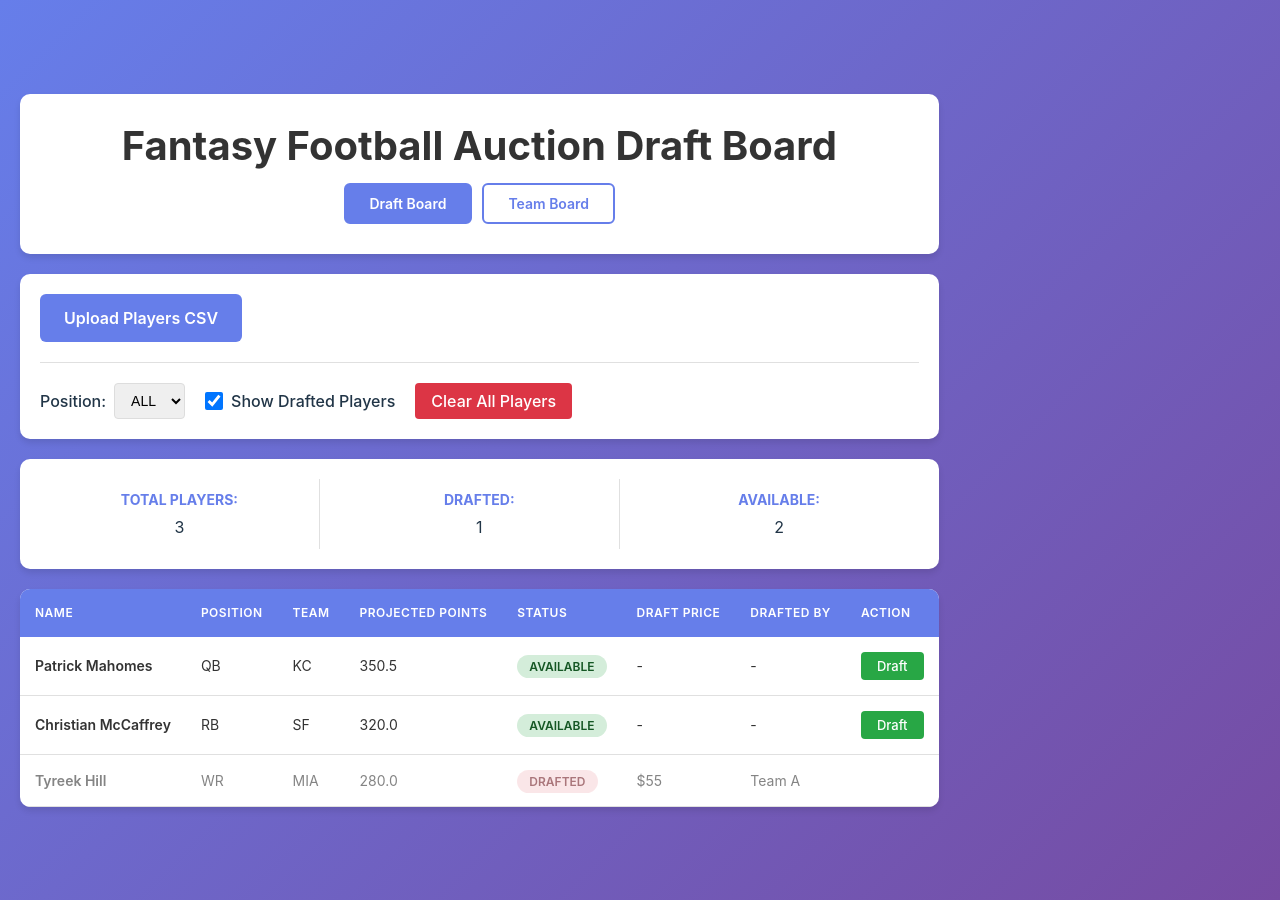
App › Show Drafted Filter › hides drafted players when checkbox is unchecked
Check: the text "Tyreek Hill" is shown, box [20,754,186,806]
Click the checkbox: (214, 400) [205,392,223,410]
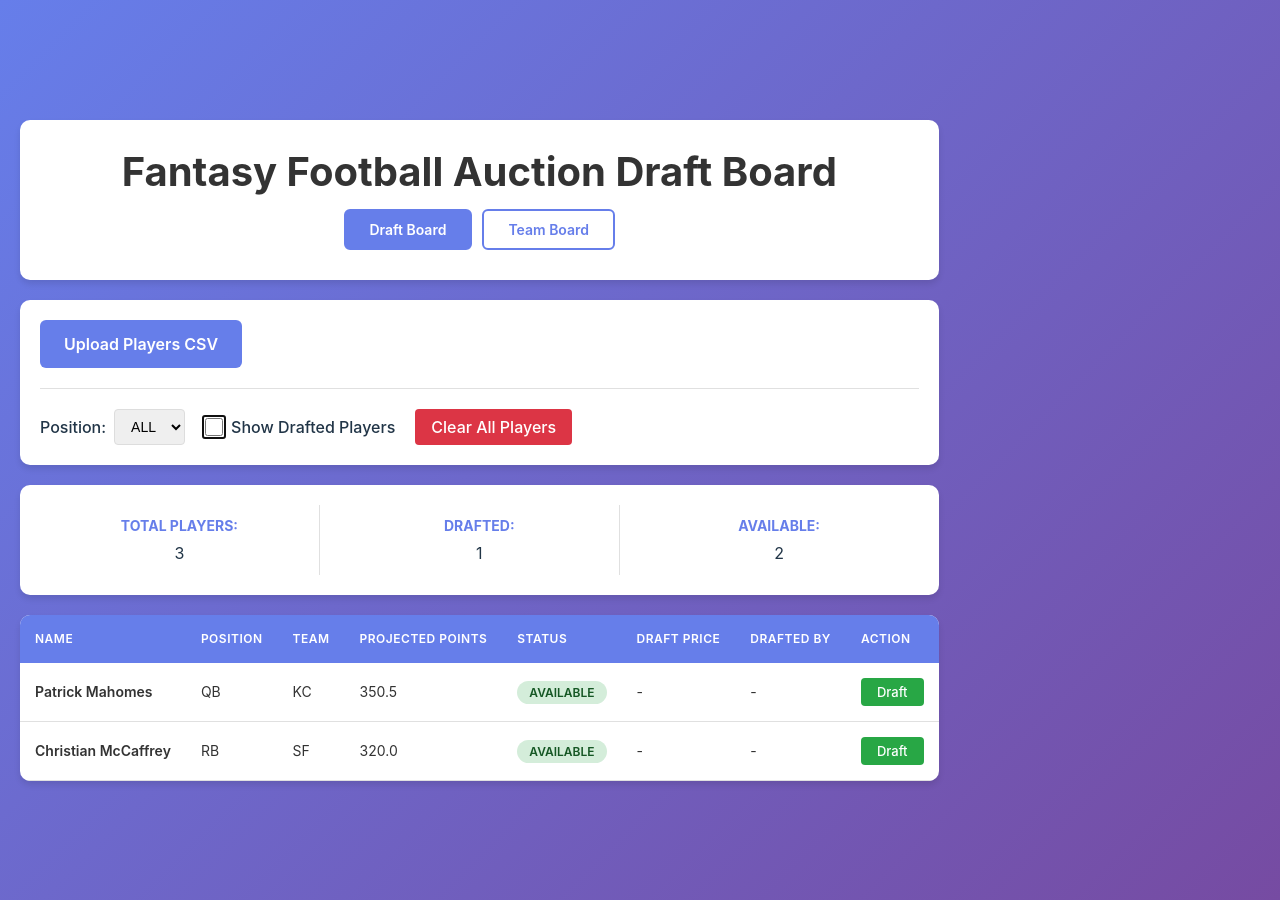
Check: the text "Patrick Mahomes" is shown, box [20,662,186,721]
Check: the text "Tyreek Hill" is gone
